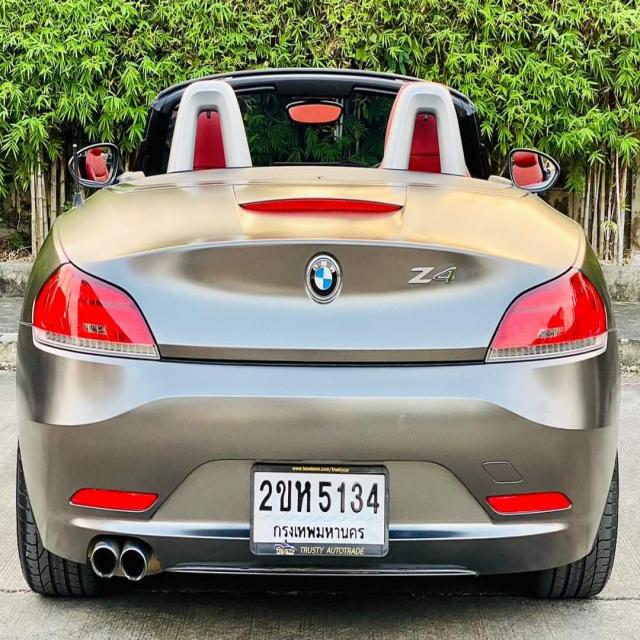license_plate: (250, 456, 390, 559)
